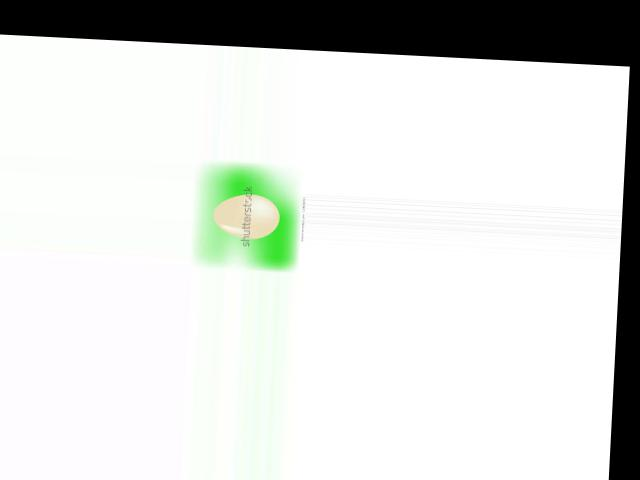egg: (212, 192, 280, 239)
